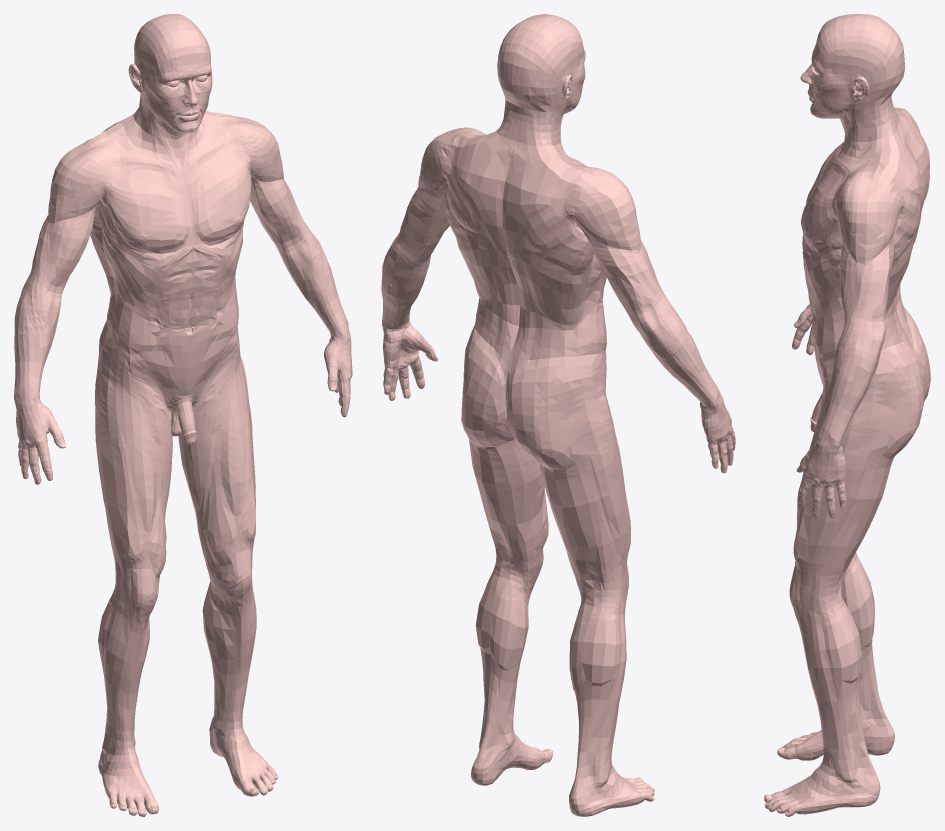
File: Anatomy.fbx
The picture shows the model from 3 angles, left to right: view 1: azimuth 30°, elevation 25°; view 2: azimuth 150°, elevation 25°; view 3: azimuth 270°, elevation 25°; orthographic projection. The views are drawn at different scales.
Visible parts, largest first — view 1: Body_skin; view 2: Body_skin; view 3: Body_skin.
Part boxes in pixels (x1,y1,x2,y2): Body_skin: (14, 14, 352, 816); Body_skin: (381, 14, 735, 816); Body_skin: (764, 14, 930, 816).
Bounding box in the file's own units: 286 × 627 × 123.
